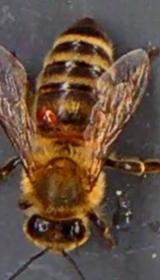varroa_mite: (36, 104, 64, 130)
